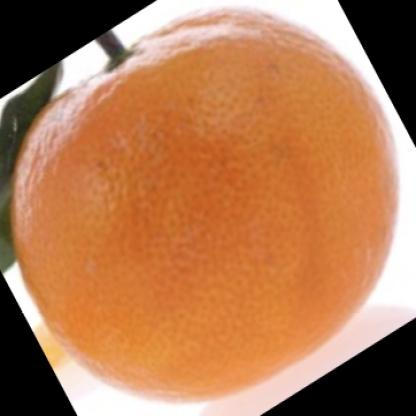fresh: (11, 13, 400, 399)
